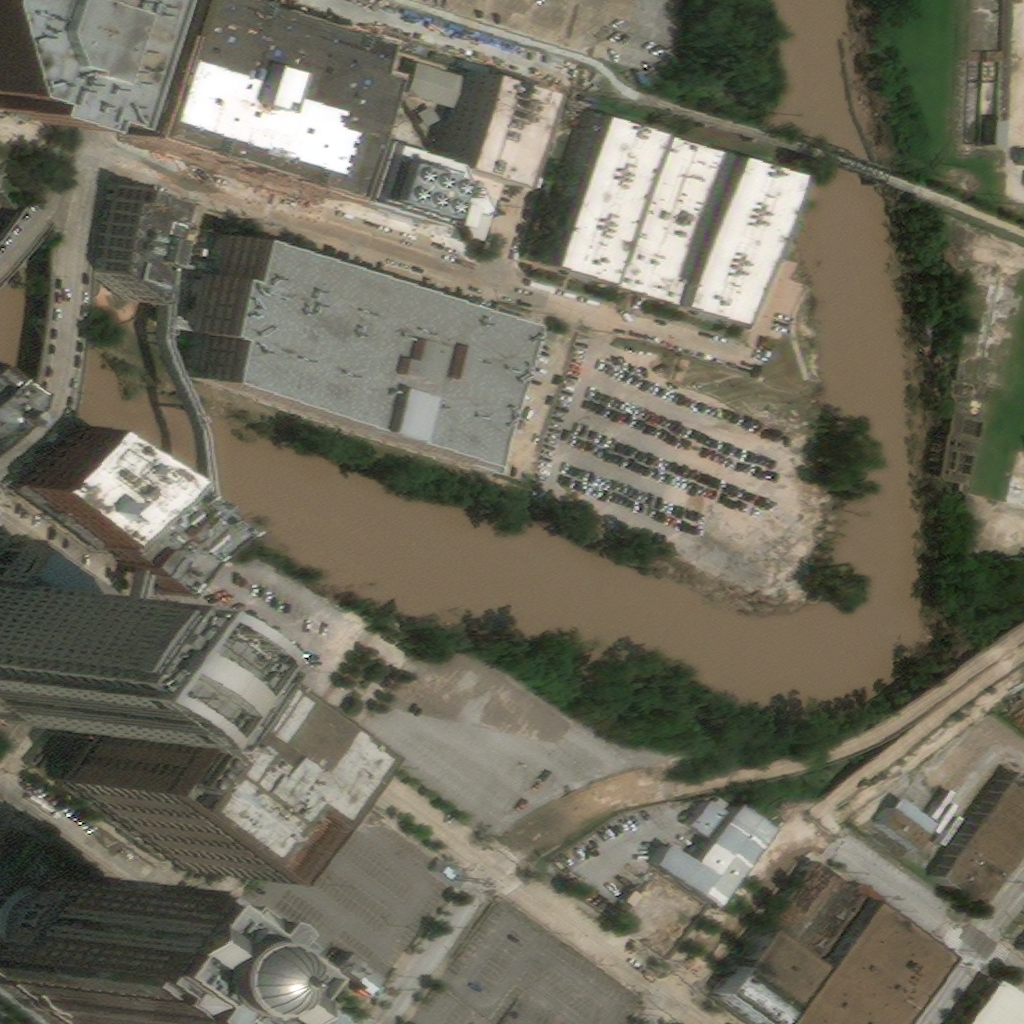minor_damage: (173, 226, 530, 480), (545, 112, 789, 335), (8, 410, 147, 549), (97, 471, 231, 602), (89, 183, 172, 309), (941, 393, 1004, 500), (0, 373, 22, 437), (0, 161, 15, 212)
no_damage: (48, 634, 292, 881), (134, 0, 381, 200), (340, 60, 536, 254), (0, 833, 161, 1023), (0, 524, 119, 768), (782, 900, 952, 1023), (0, 0, 123, 134), (654, 804, 775, 915), (153, 944, 312, 1023), (938, 771, 1023, 915), (769, 863, 871, 966), (741, 928, 823, 1005), (882, 792, 963, 858), (721, 967, 795, 1023), (334, 951, 395, 1000), (961, 980, 1023, 1023), (686, 800, 726, 842), (1001, 125, 1014, 155)
